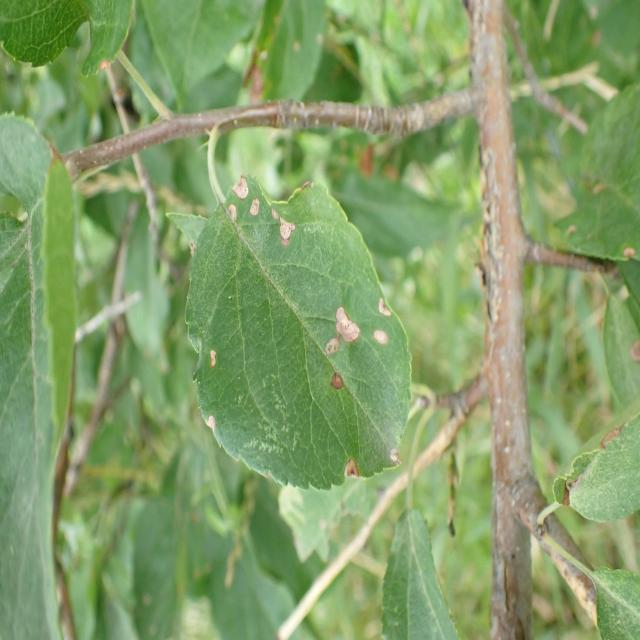Black Rot: (319, 304, 367, 357), (263, 204, 309, 250), (93, 50, 124, 99), (374, 293, 411, 321), (341, 454, 365, 494), (229, 165, 254, 197), (204, 400, 223, 442), (243, 195, 270, 223), (323, 366, 351, 393), (200, 348, 228, 375), (219, 203, 245, 231), (626, 328, 640, 379), (369, 323, 390, 351), (386, 448, 404, 477)
